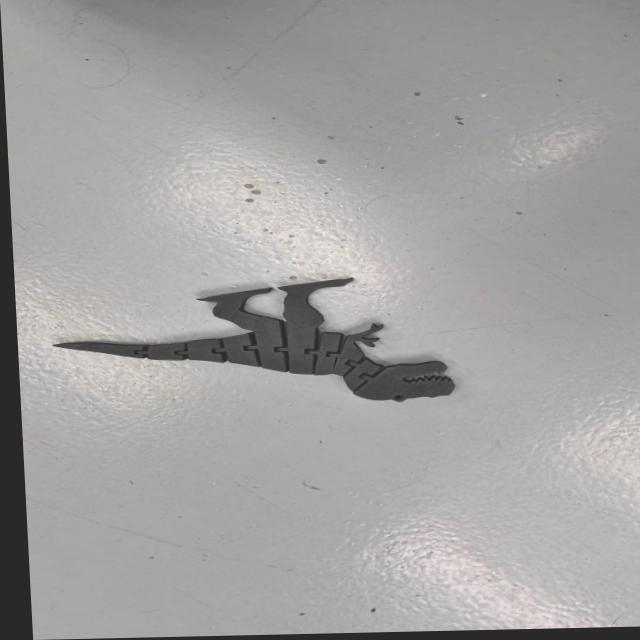dino: (48, 275, 457, 410)
